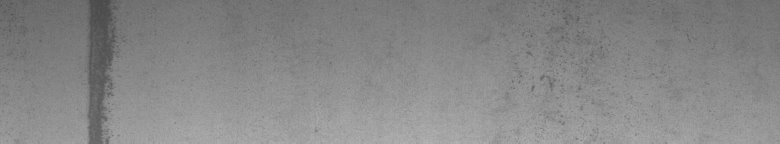hd: (83, 4, 125, 136)
